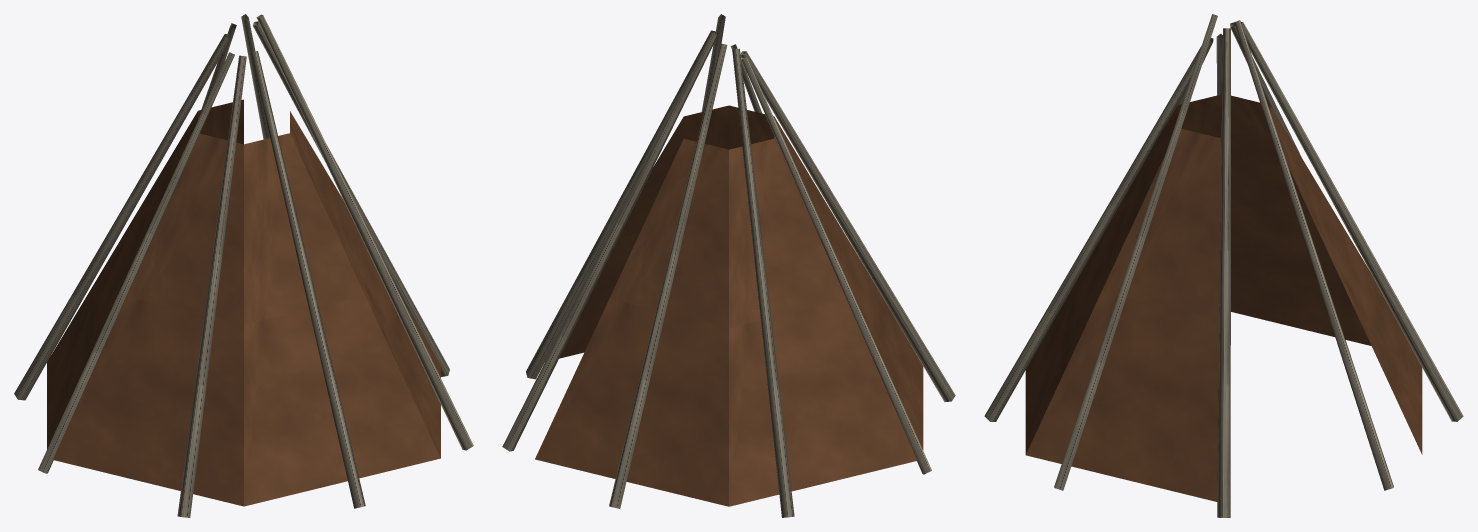
Rendered from Hut_Branch_1_LOD1.gltf.
3 views of the same model, side by side, from view 1: azimuth 30°, elevation 25°; view 2: azimuth 150°, elevation 25°; view 3: azimuth 270°, elevation 25° (orthographic). The views are drawn at different scales.
Visible parts, largest first — view 1: Hut_Branch_1_LOD1; view 2: Hut_Branch_1_LOD1; view 3: Hut_Branch_1_LOD1.
Part boxes in pixels (box(x1,y1,x2,y2)): Hut_Branch_1_LOD1: box(14, 14, 473, 517); Hut_Branch_1_LOD1: box(502, 14, 955, 517); Hut_Branch_1_LOD1: box(984, 14, 1463, 517).
Bounding box in the file's own units: 3.59 × 3.42 × 3.59.
2 materials, 2 textured.
